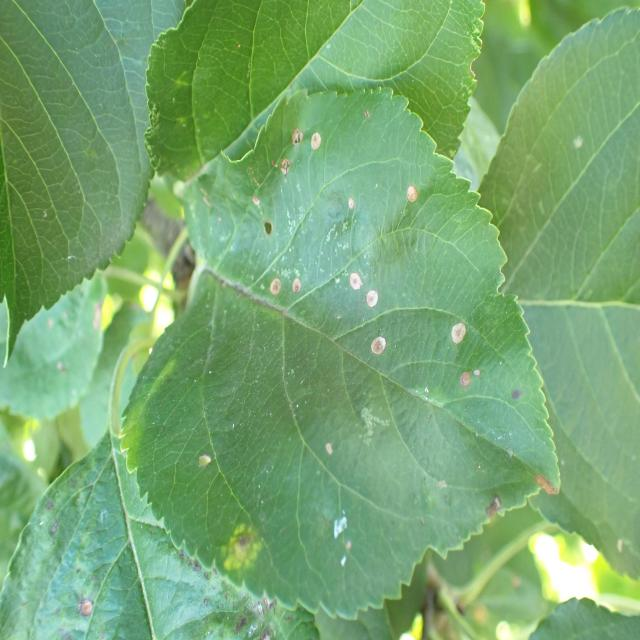frog-eye-leaf-spot: (118, 84, 562, 624), (0, 426, 322, 639)
